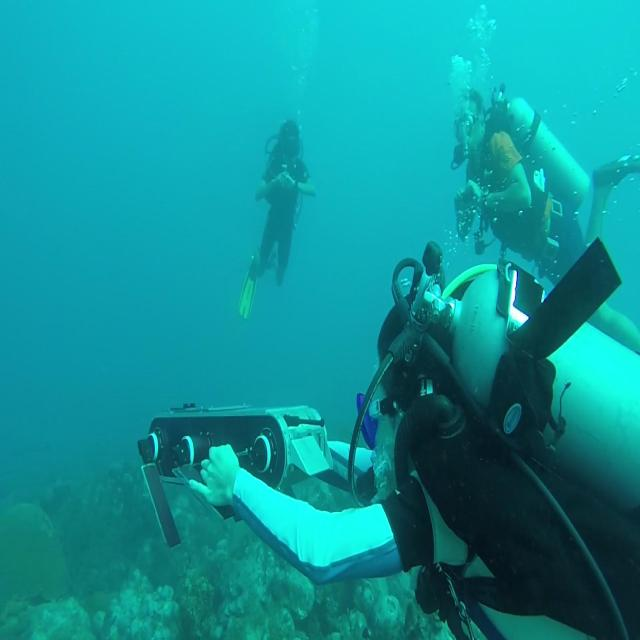human: (184, 242, 638, 638), (450, 83, 639, 356), (238, 118, 315, 321)
